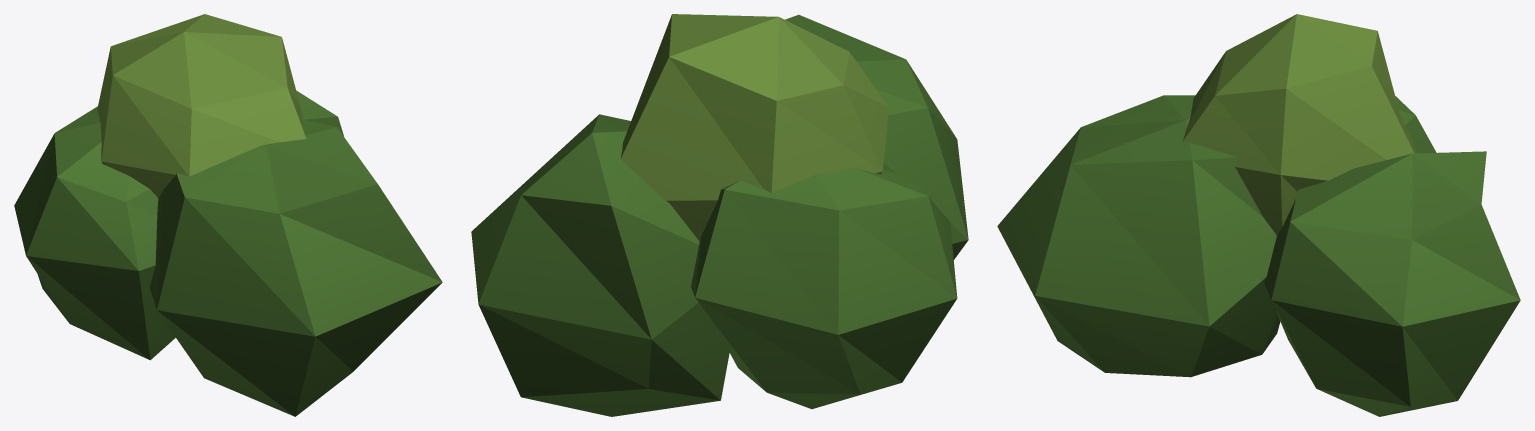
File: bush_1.glb
The picture shows the model from 3 angles, left to right: view 1: azimuth 30°, elevation 25°; view 2: azimuth 150°, elevation 25°; view 3: azimuth 270°, elevation 25°; orthographic projection. The views are drawn at different scales.
Parts seen in each view (by area): view 1: bush_1; view 2: bush_1; view 3: bush_1.
Boxes of the visible parts, bbox=[...] form: bush_1: bbox=[14, 14, 442, 416]; bush_1: bbox=[471, 14, 968, 416]; bush_1: bbox=[997, 14, 1520, 416].
Size of the model in its own units: 0.4443 by 0.3877 by 0.5244.
